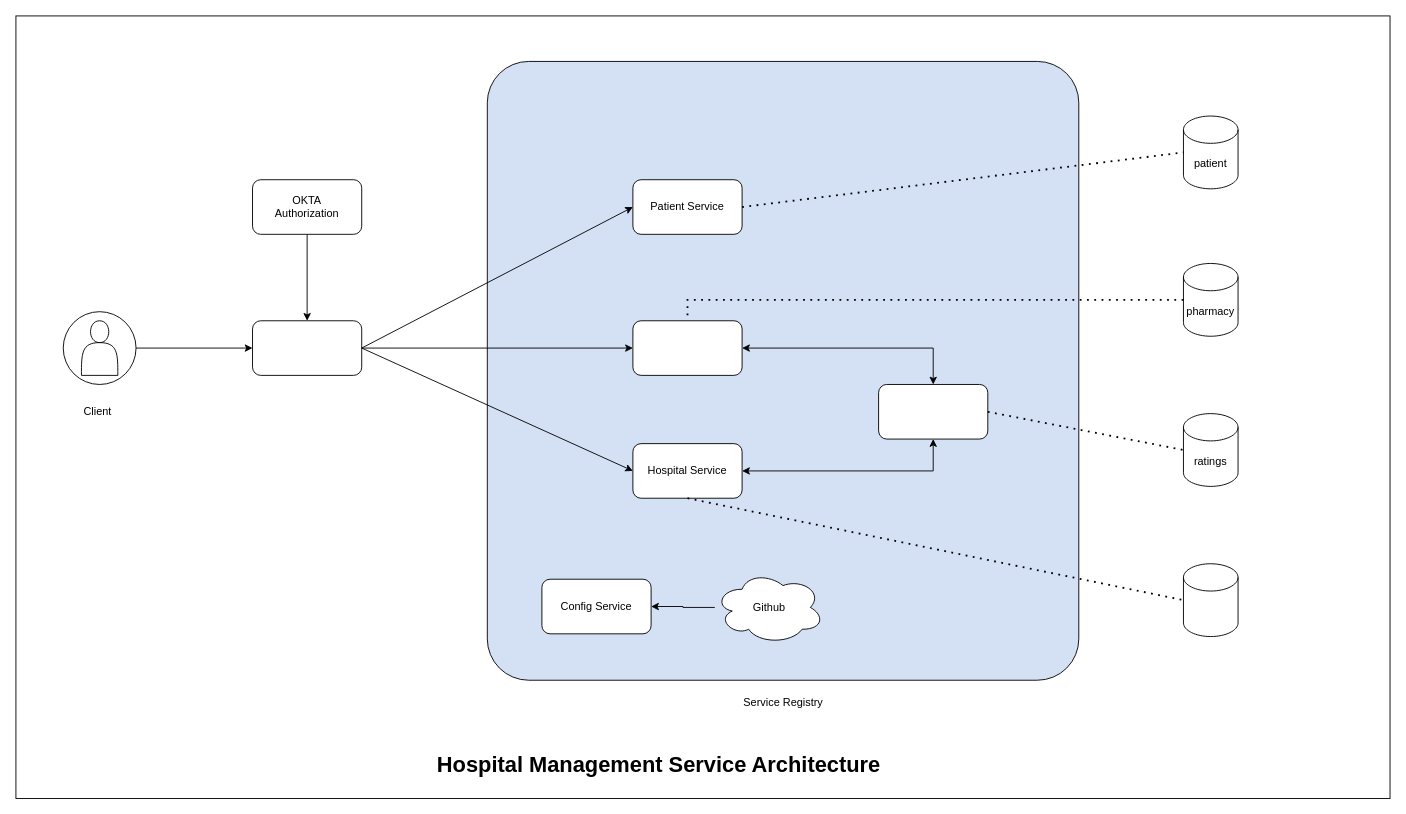
This 1406x814 diagram has some shape labels left out. The shapes that lost their labels are listed below. From the top down, each one's centre as x and y in pixels, then its label:
At (307,347): "API Gateway".
At (687,347): "Pharmacy Service".
At (933,411): "Feedback Service".
At (1210,600): "hospital".
